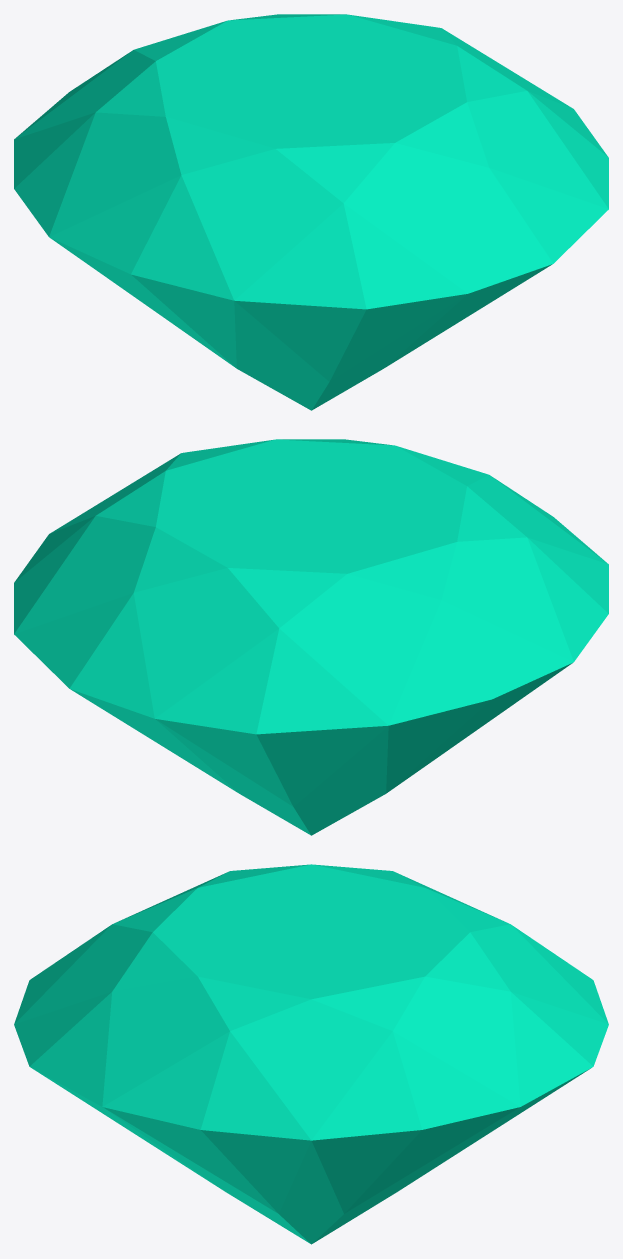
File: NEmerald.fbx
The picture shows the model from 3 angles, top to bottom: view 1: azimuth 30°, elevation 25°; view 2: azimuth 150°, elevation 25°; view 3: azimuth 270°, elevation 25°; orthographic projection. The views are drawn at different scales.
Parts seen in each view (by area): view 1: Plane; view 2: Plane; view 3: Plane.
Part boxes in pixels (bbox=[...]): Plane: bbox=[14, 14, 608, 410]; Plane: bbox=[14, 439, 608, 835]; Plane: bbox=[14, 864, 608, 1244].
Size of the model in its own units: 516 by 309 by 534.
